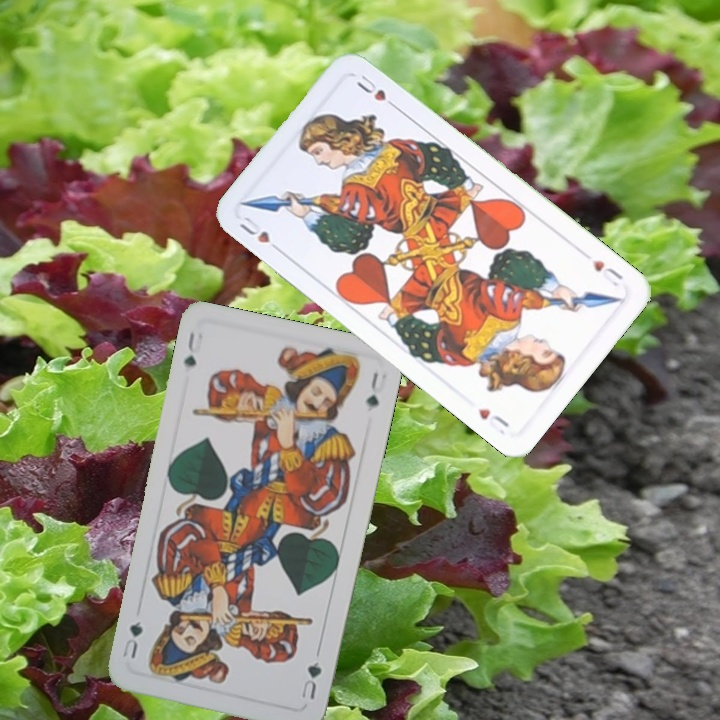GU: (296, 657, 324, 702), (180, 326, 206, 370)
HU: (235, 212, 285, 256), (588, 255, 626, 290)
